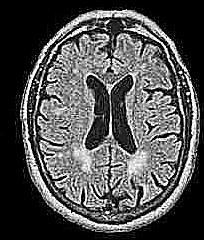Normal_Brain: (1, 1, 204, 240)
